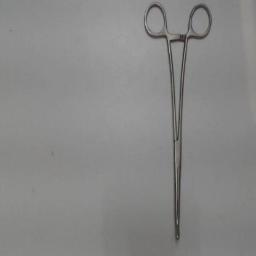Lahey Forceps: (140, 3, 216, 247)
